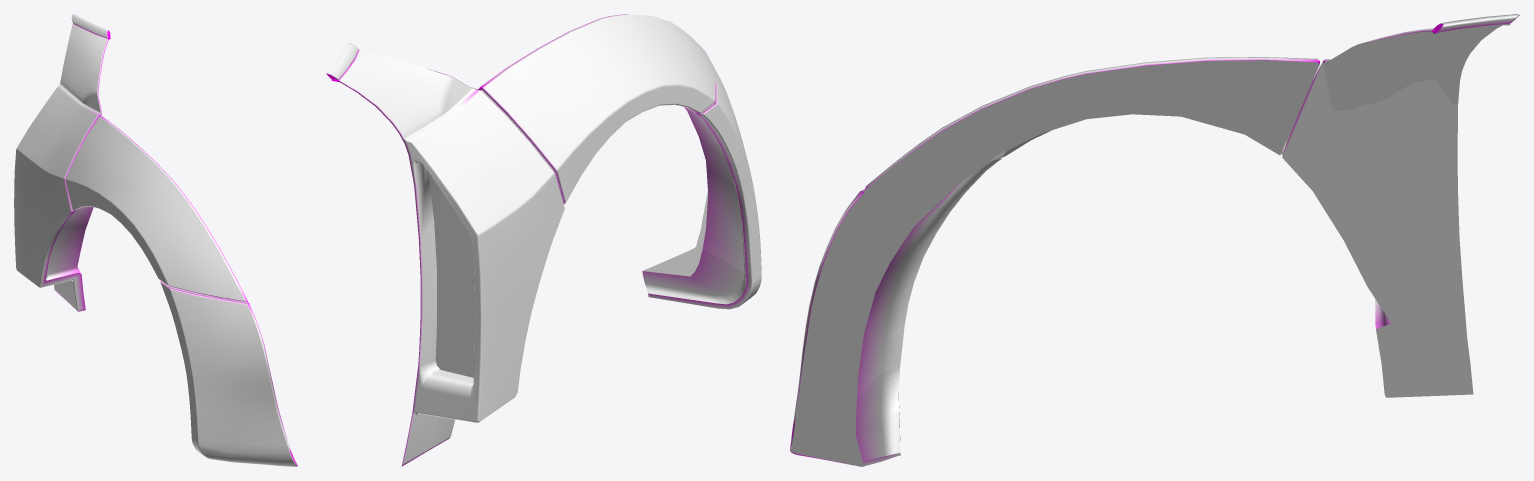
File: Car_Mini_CountrymanJCW_2017_FenderFR_SetC_AltC.fbx
3 renders of one model, left to right at view 1: azimuth 30°, elevation 25°; view 2: azimuth 150°, elevation 25°; view 3: azimuth 270°, elevation 25°, orthographic. The views are drawn at different scales.
Visible parts, largest first — view 1: FenderFR 6; view 2: FenderFR 6; view 3: FenderFR 6.
Part boxes in pixels (x1,y1,x2,y2): FenderFR 6: (14,14,297,466); FenderFR 6: (326,14,761,466); FenderFR 6: (790,14,1519,466).
Bounding box in the file's own units: 0.281 × 0.8308 × 1.22.
